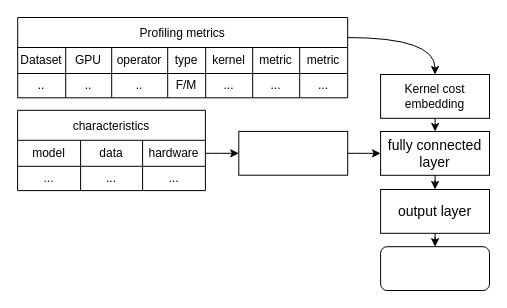
Image size: 507x308. Some labels were removed from this diagram. Each missing label, with the centre of its shape:
"Characteristic embedding" goes at (293,152).
"Factorize/ materialize" goes at (435,268).
